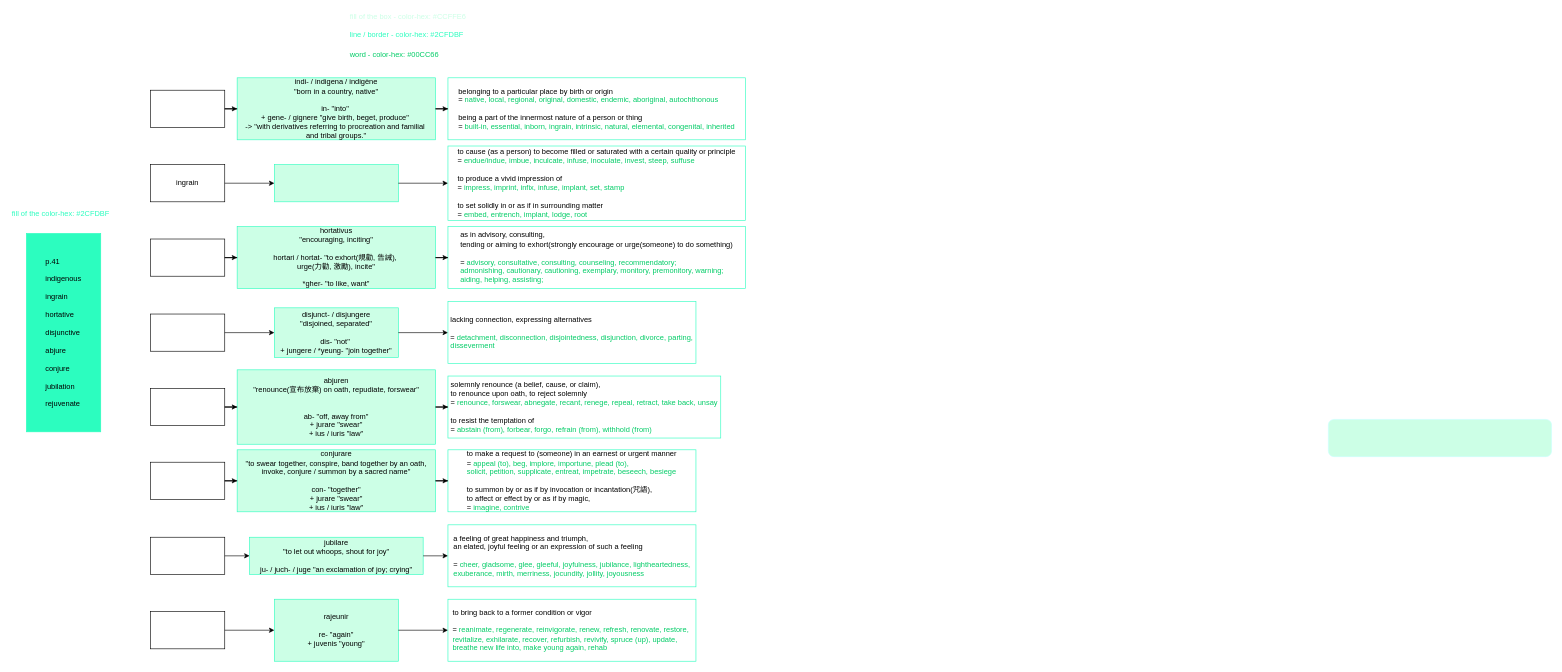
The diagram is 1562 pixels wide and 672 high, and some of its shapes have lost their labels. Each missing label, with the centre of its shape:
abjure: point 187,407
conjure: point 187,480
disjunctive: point 187,332
en- / in- (intensifier) + grain "kermes, cochineal": point 336,183
hortative: point 187,257
indigenous: point 187,108
jubilation: point 187,555
log transformation: point 1440,438
rejuvenate: point 187,630
